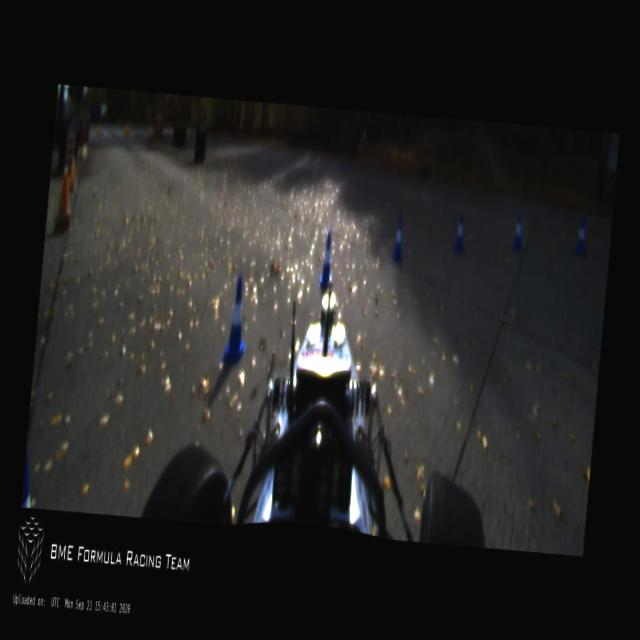blue_cone: (220, 276, 252, 362), (318, 232, 336, 288), (574, 215, 590, 256), (391, 216, 405, 261), (511, 211, 525, 252), (453, 212, 466, 252)
